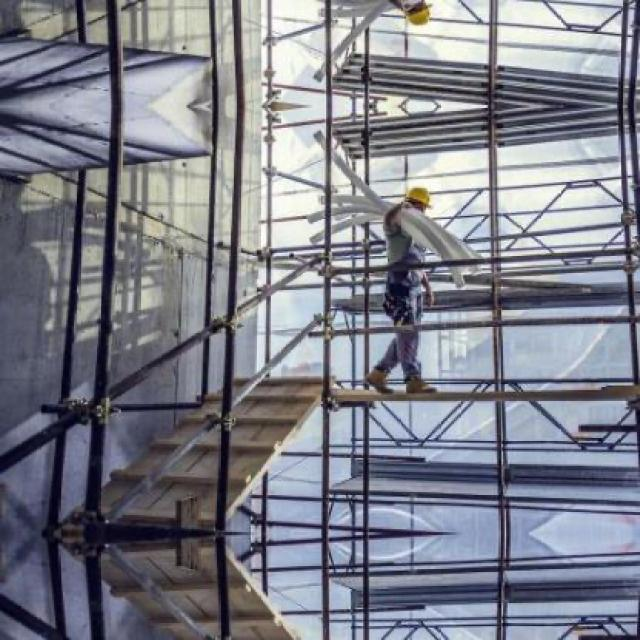helmet: (402, 188, 429, 221), (402, 0, 431, 26)
